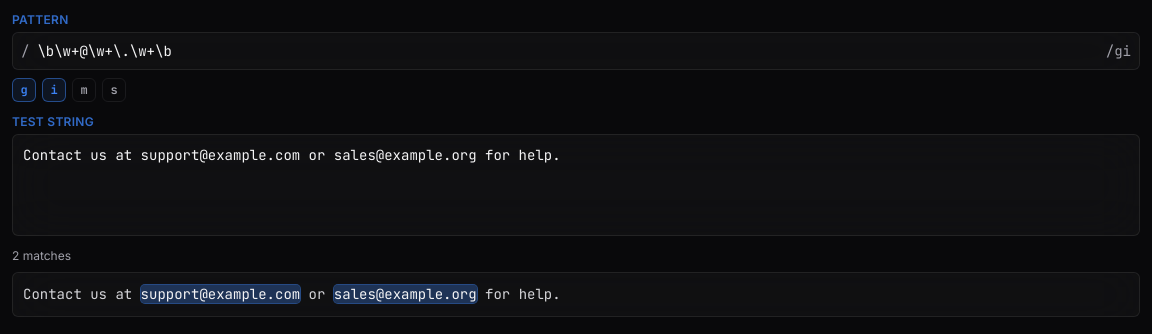
Test: RegexPlayground › toggling the global flag off limits matching to the first occurrence
Default flags are "gi" -- turn off "g".
What coordinates should you click on to do the following:
click the button titled "global"
I would click on:
 (24, 90)
Its box is 12,78 -> 36,102.
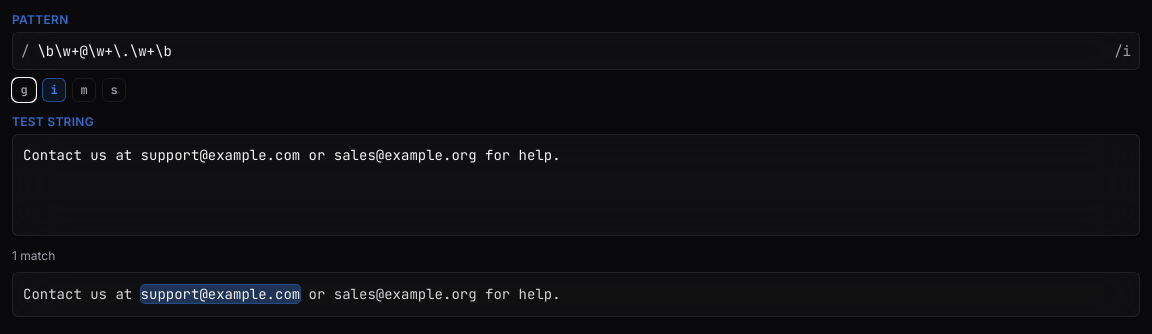
Now the text "1 match" is shown, box 12,248 -> 55,263
